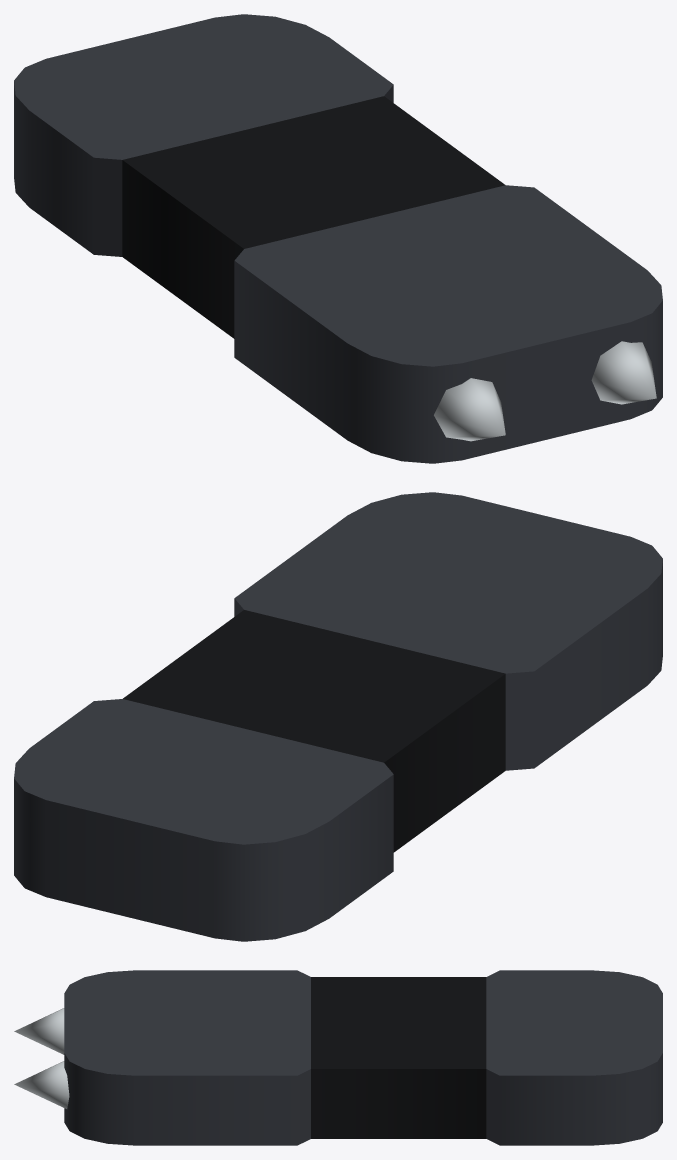
File: Stun Gun.fbx
3 renders of one model, top to bottom at view 1: azimuth 30°, elevation 25°; view 2: azimuth 150°, elevation 25°; view 3: azimuth 270°, elevation 25°, orthographic. The views are drawn at different scales.
Parts seen in each view (by area): view 1: stun gun; view 2: stun gun; view 3: stun gun.
Part boxes in pixels (x1,y1,x2,y2): stun gun: (14, 14, 662, 463); stun gun: (14, 492, 662, 941); stun gun: (14, 970, 662, 1145).
Size of the model in its own units: 0.2128 by 0.0659 by 0.5543.
